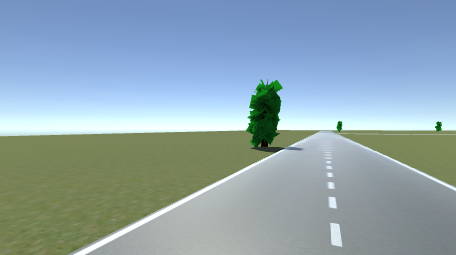tree: (246, 79, 285, 149), (435, 121, 443, 133), (336, 121, 343, 133)
